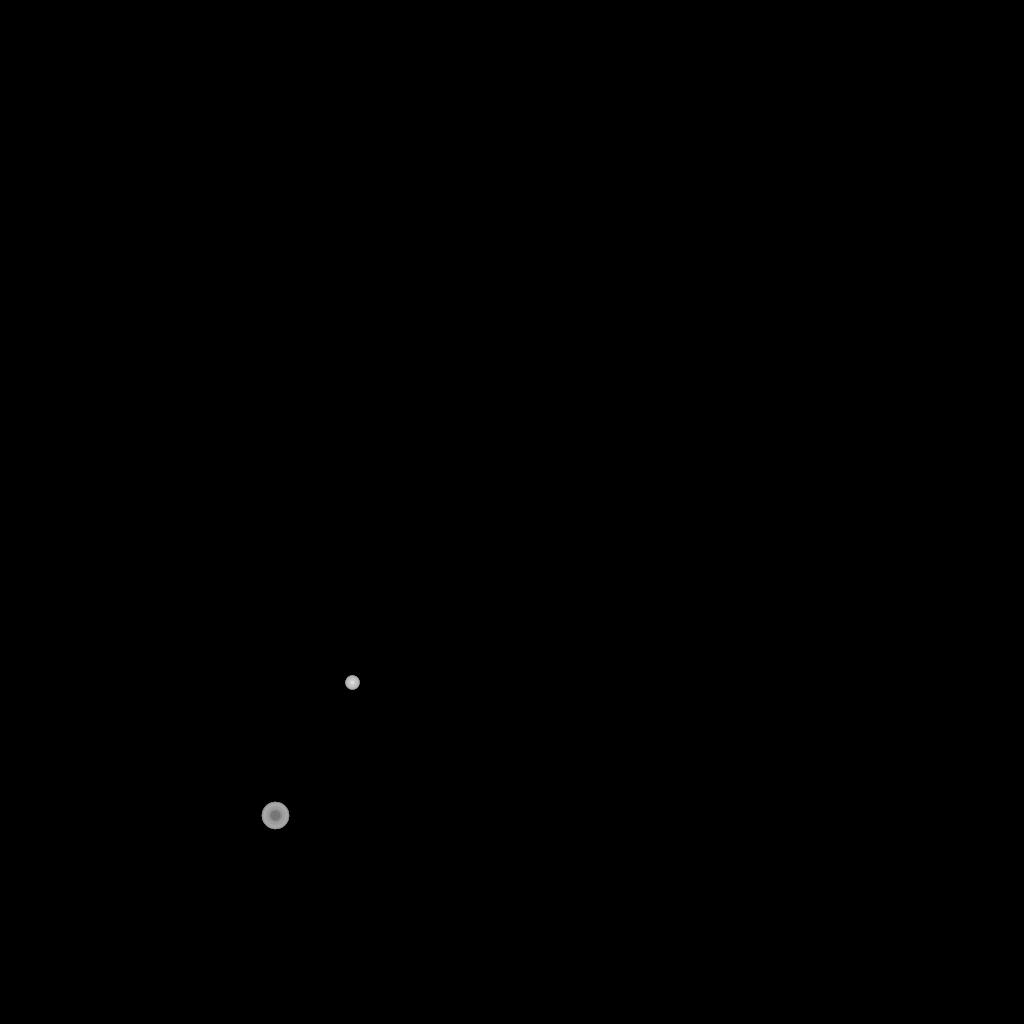depth:-30: (345, 676, 359, 690)
depth:-50: (261, 802, 289, 830)
